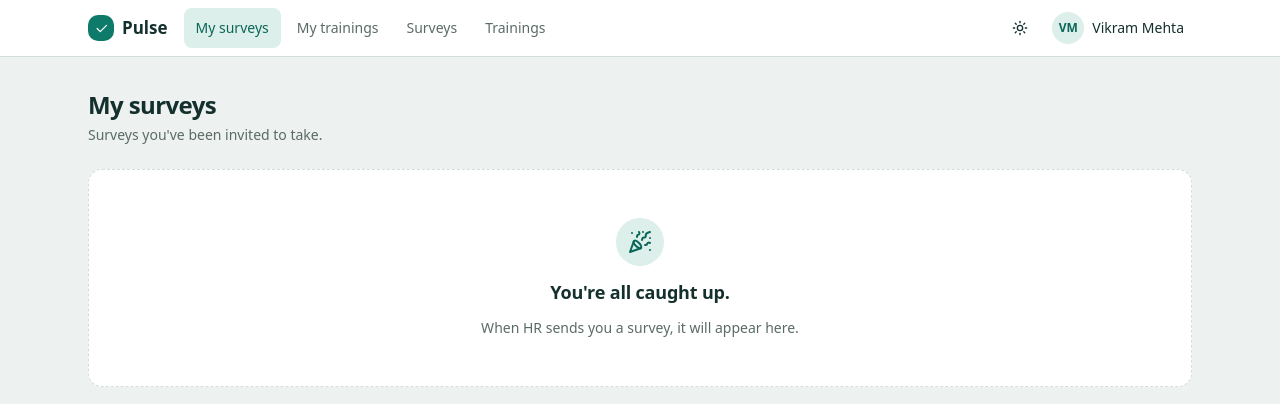
account menu and sign out › shows who is signed in
The image size is (1280, 404).
Click the button named "Account: Vikram Mehta".
click(1118, 28)  # box [1044, 8, 1192, 48]
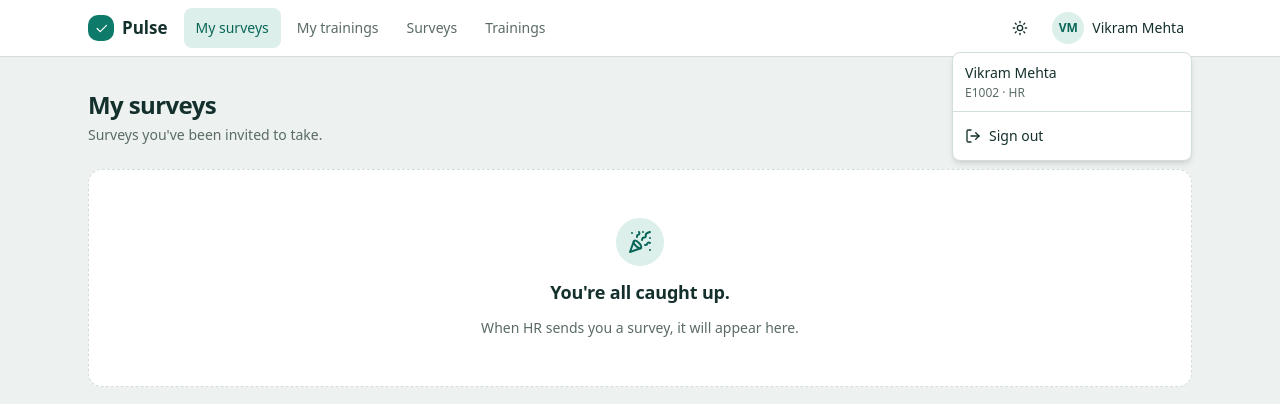
Expected: the text "E1002 · HR" is shown, [965, 84, 1025, 101]
